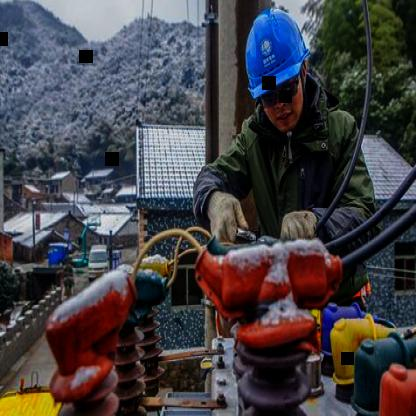helmet: (237, 0, 314, 138)
